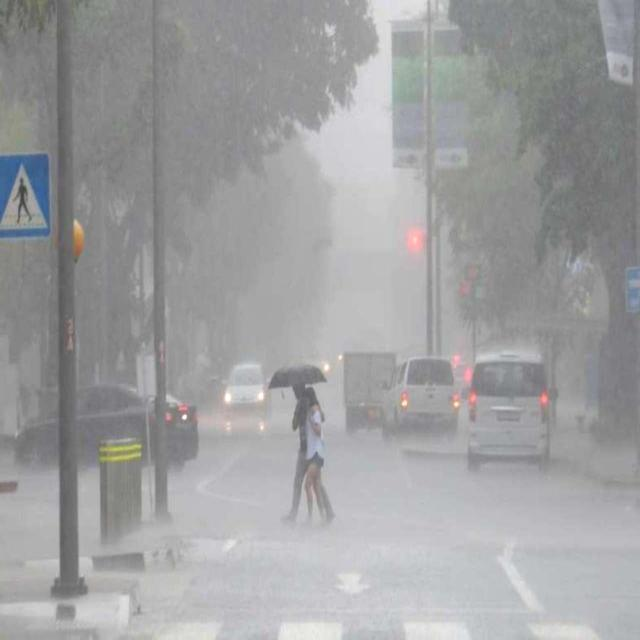Car: (12, 380, 198, 475), (465, 351, 558, 477), (377, 353, 460, 444), (222, 360, 270, 419)
Truck: (341, 344, 398, 434)
